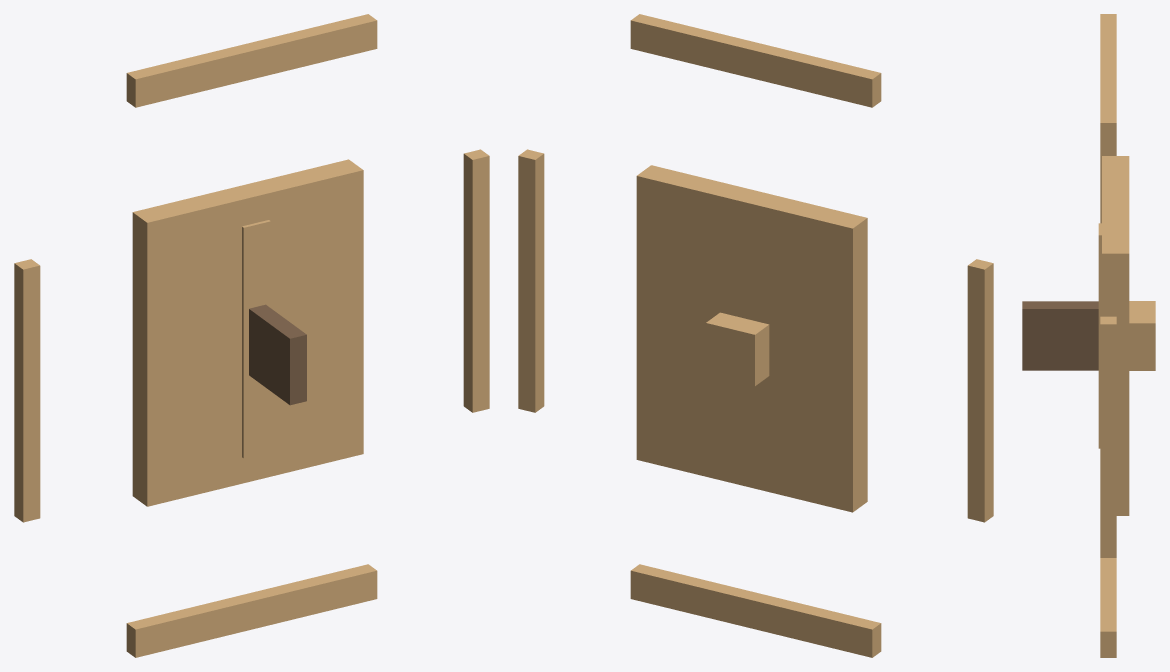
Rendered from equip_shield_bronze_sq.glb.
The picture shows the model from 3 angles, left to right: view 1: azimuth 30°, elevation 25°; view 2: azimuth 150°, elevation 25°; view 3: azimuth 270°, elevation 25°; orthographic projection. The views are drawn at different scales.
Visible parts, largest first — view 1: equip_shield_bronze_sq; view 2: equip_shield_bronze_sq; view 3: equip_shield_bronze_sq.
Boxes of the visible parts, x1=… form: equip_shield_bronze_sq: x1=14, y1=14, x2=489, y2=657; equip_shield_bronze_sq: x1=518, y1=14, x2=993, y2=657; equip_shield_bronze_sq: x1=1022, y1=14, x2=1155, y2=657.
Bounding box in the file's own units: 0.55 × 0.652 × 0.147.
